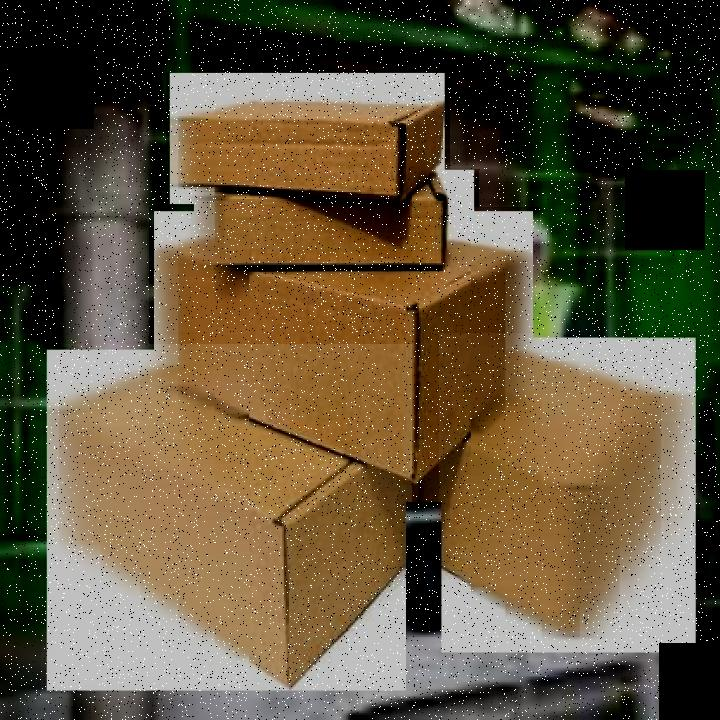box: (41, 344, 412, 698), (149, 207, 540, 508), (439, 333, 700, 659), (191, 169, 479, 305), (166, 72, 450, 207)
